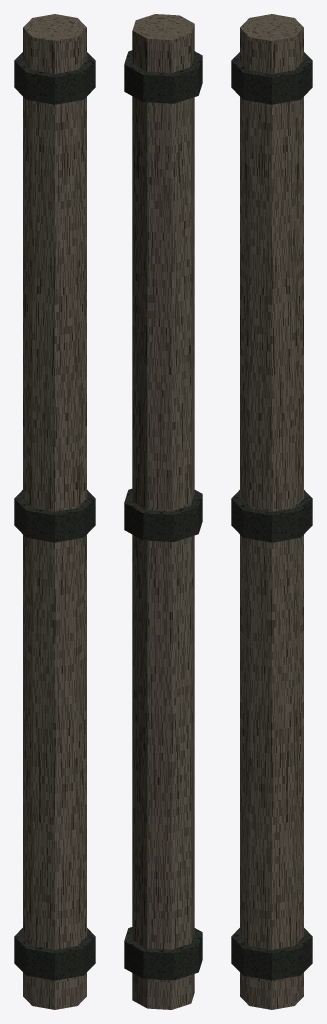
File: pipe.glb
3 views of the same model, side by side, from view 1: azimuth 90°, elevation 25°; view 2: azimuth 150°, elevation 25°; view 3: azimuth 270°, elevation 25° (orthographic).
Parts seen in each view (by area): view 1: Pipe, Pipe_collar.002, Pipe_collar, Pipe_collar.001; view 2: Pipe, Pipe_collar.002, Pipe_collar, Pipe_collar.001; view 3: Pipe, Pipe_collar.002, Pipe_collar, Pipe_collar.001.
Boxes of the visible parts, <box> form: Pipe: <box>23,14,86,1009</box>; Pipe_collar.002: <box>14,52,95,104</box>; Pipe_collar: <box>14,928,95,980</box>; Pipe_collar.001: <box>14,490,95,542</box>; Pipe: <box>132,14,194,1009</box>; Pipe_collar.002: <box>124,50,202,103</box>; Pipe_collar: <box>124,927,202,980</box>; Pipe_collar.001: <box>124,488,202,541</box>; Pipe: <box>240,14,303,1009</box>; Pipe_collar.002: <box>231,52,312,104</box>; Pipe_collar: <box>231,928,312,980</box>; Pipe_collar.001: <box>231,490,312,542</box>.
Bounding box in the file's own units: 0.19 × 2.5 × 0.19.
Materials: 2 (2 with a texture image).
